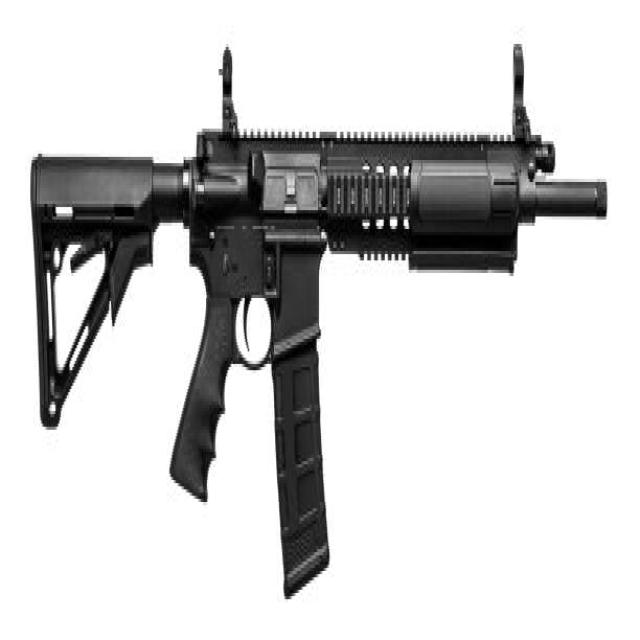rifle: (25, 18, 608, 616)
